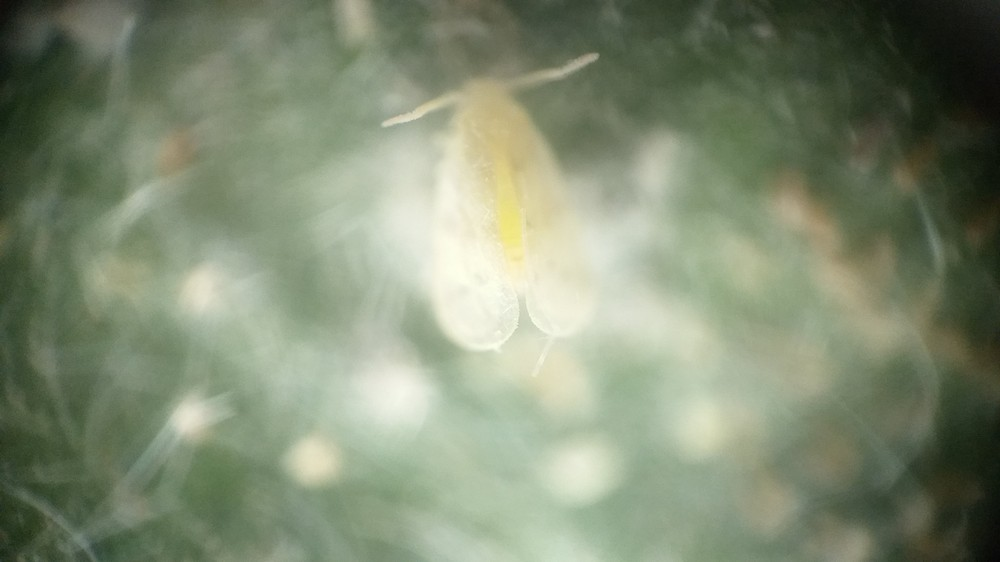Mosca Blanca: (355, 45, 641, 366)
